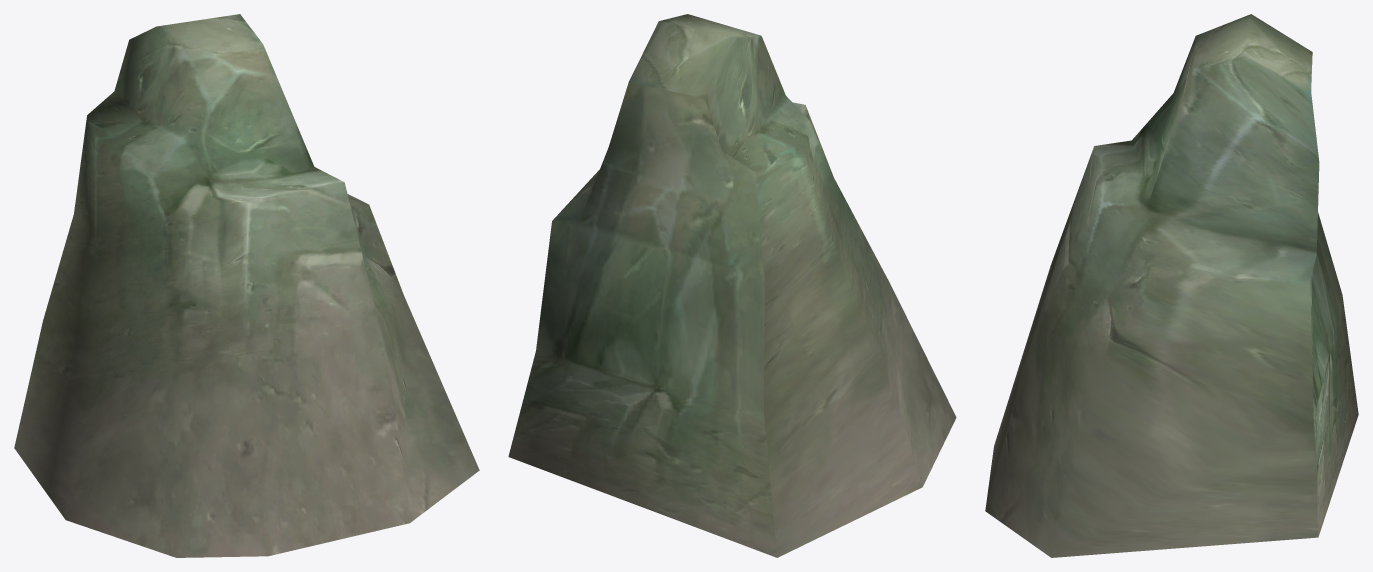
The model's file is cj_xinshou_shitou03_53_40_8409out.fbx.
The picture shows the model from 3 angles, left to right: view 1: azimuth 30°, elevation 25°; view 2: azimuth 150°, elevation 25°; view 3: azimuth 270°, elevation 25°; orthographic projection. The views are drawn at different scales.
Parts seen in each view (by area): view 1: cj_xinshou_shitou03; view 2: cj_xinshou_shitou03; view 3: cj_xinshou_shitou03.
Part boxes in pixels (x1,y1,x2,y2): cj_xinshou_shitou03: (14, 14, 479, 557); cj_xinshou_shitou03: (508, 14, 956, 557); cj_xinshou_shitou03: (985, 14, 1358, 557).
Bounding box in the file's own units: 3.19 × 3.73 × 2.84.
